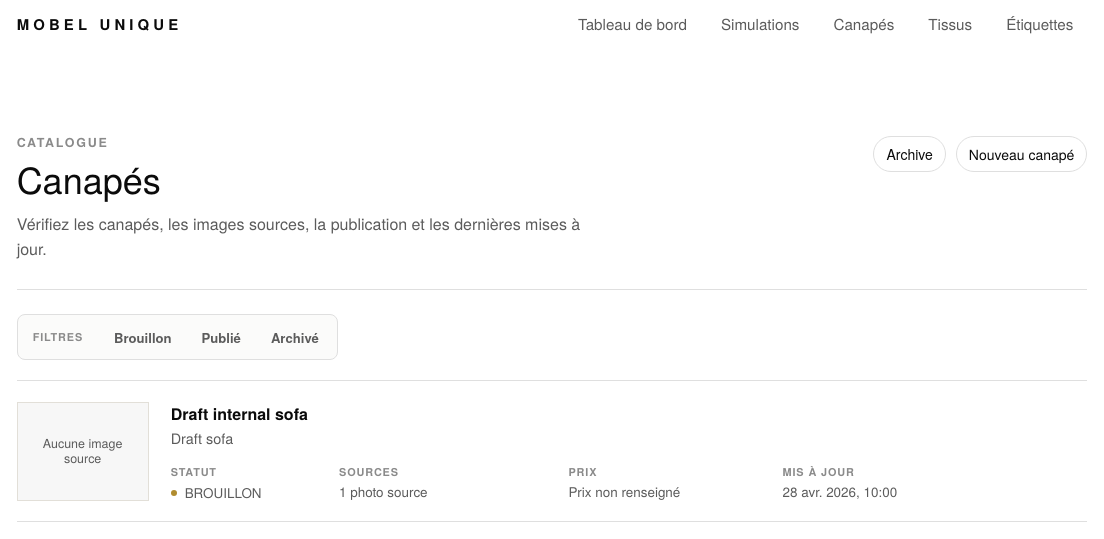
Admin catalog pages › shows a status-filter empty message when no sofas match the selected status
Expected: the heading "Canapés" is shown, [17, 154, 161, 206]
Click the button "Publié".
click(221, 337)  # box [189, 320, 254, 354]
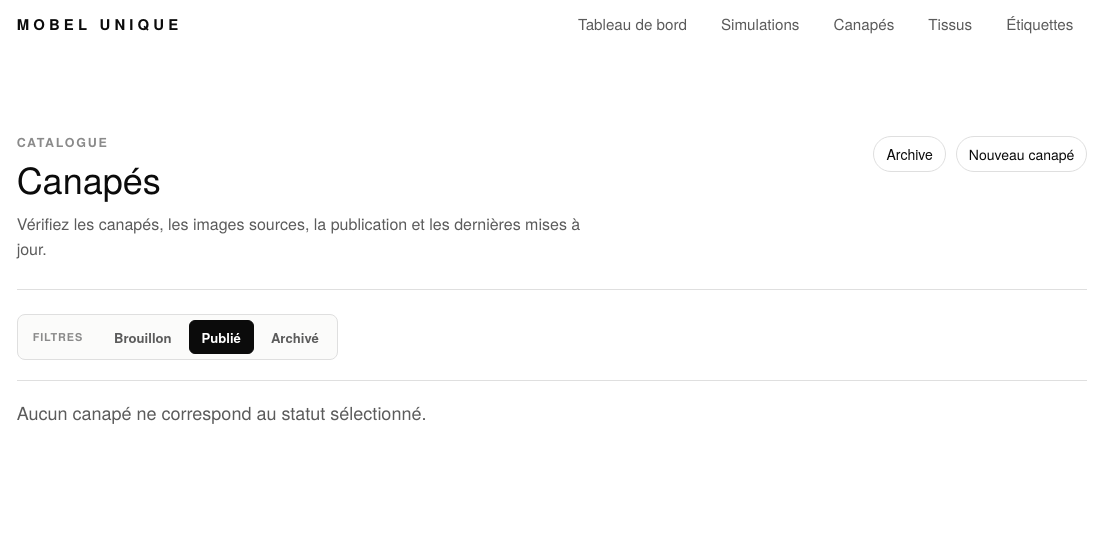
Expected: the text "Aucun canapé ne correspond au statut sélectionné." is shown, [17, 380, 1087, 428]
